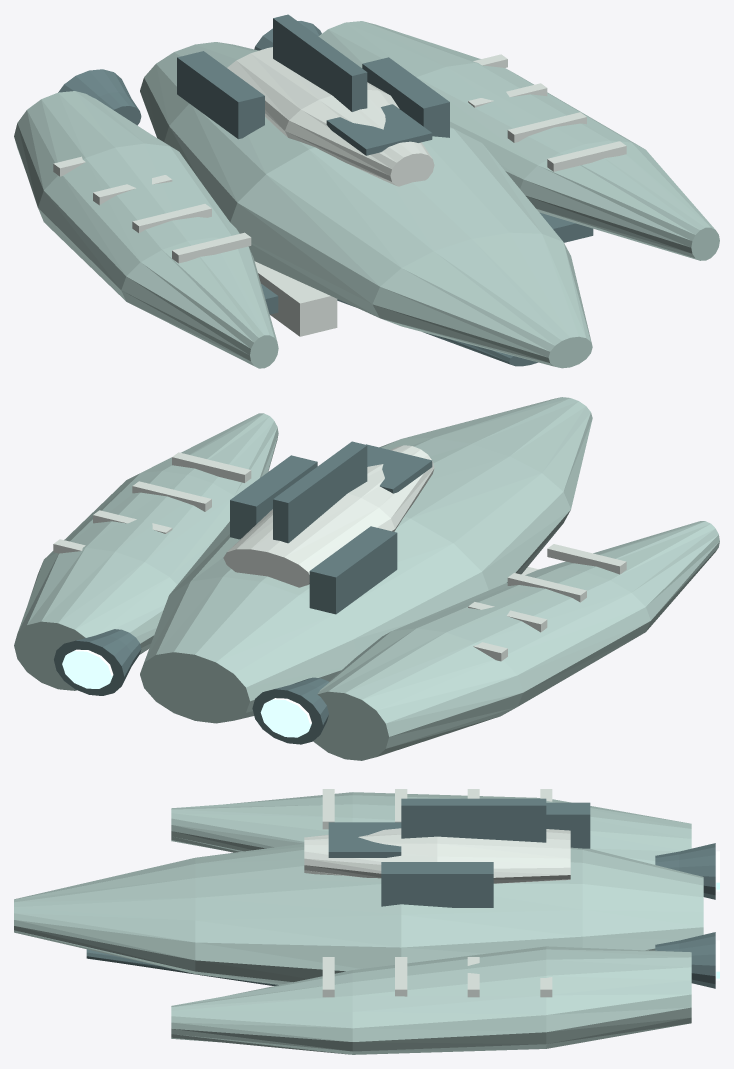
The picture shows the model from 3 angles, top to bottom: view 1: azimuth 30°, elevation 25°; view 2: azimuth 150°, elevation 25°; view 3: azimuth 270°, elevation 25°; orthographic projection. The views are drawn at different scales.
Size of the model in its own units: 11.98 by 4.11 by 15.07.
